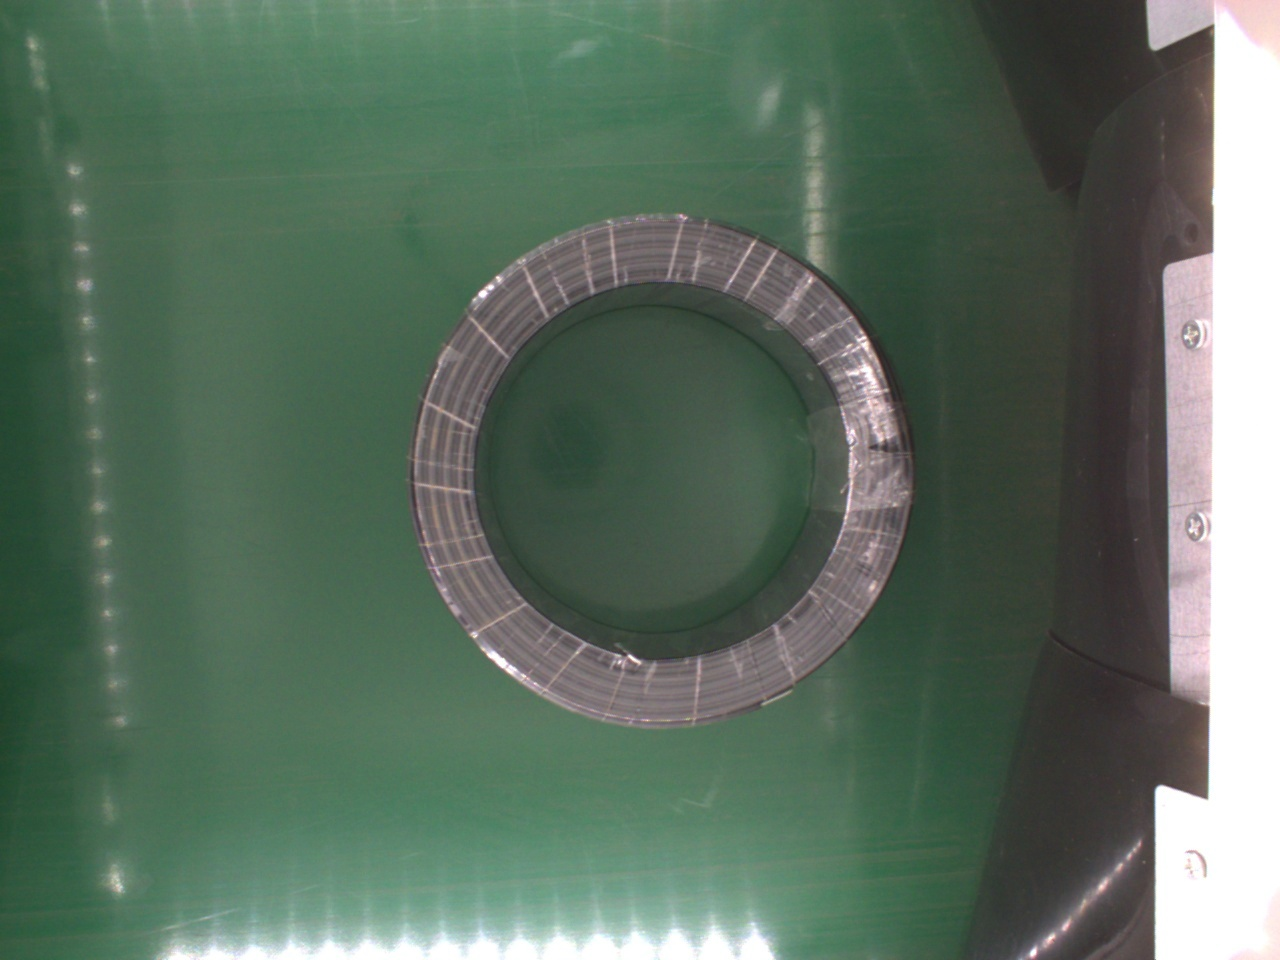black: (407, 213, 913, 723)
